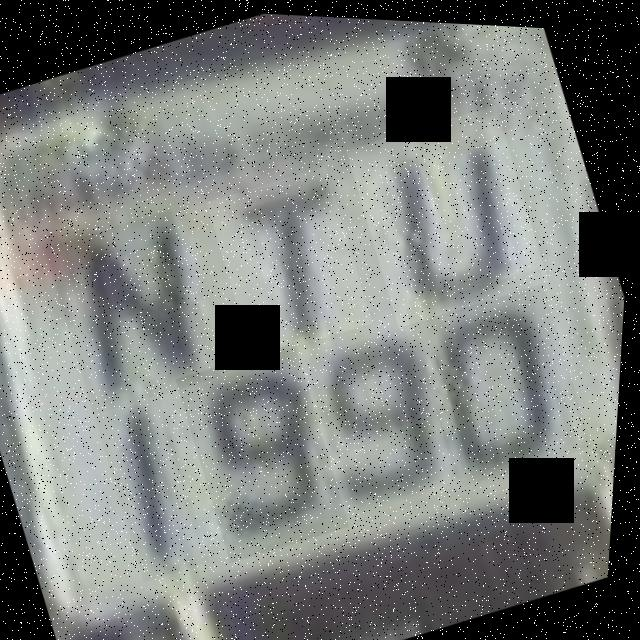0: (400, 256, 607, 488)
1: (92, 392, 224, 583)
9: (286, 290, 489, 525), (172, 335, 364, 565)
N: (39, 202, 233, 419)
T: (201, 157, 384, 361)
U: (339, 93, 560, 329)
